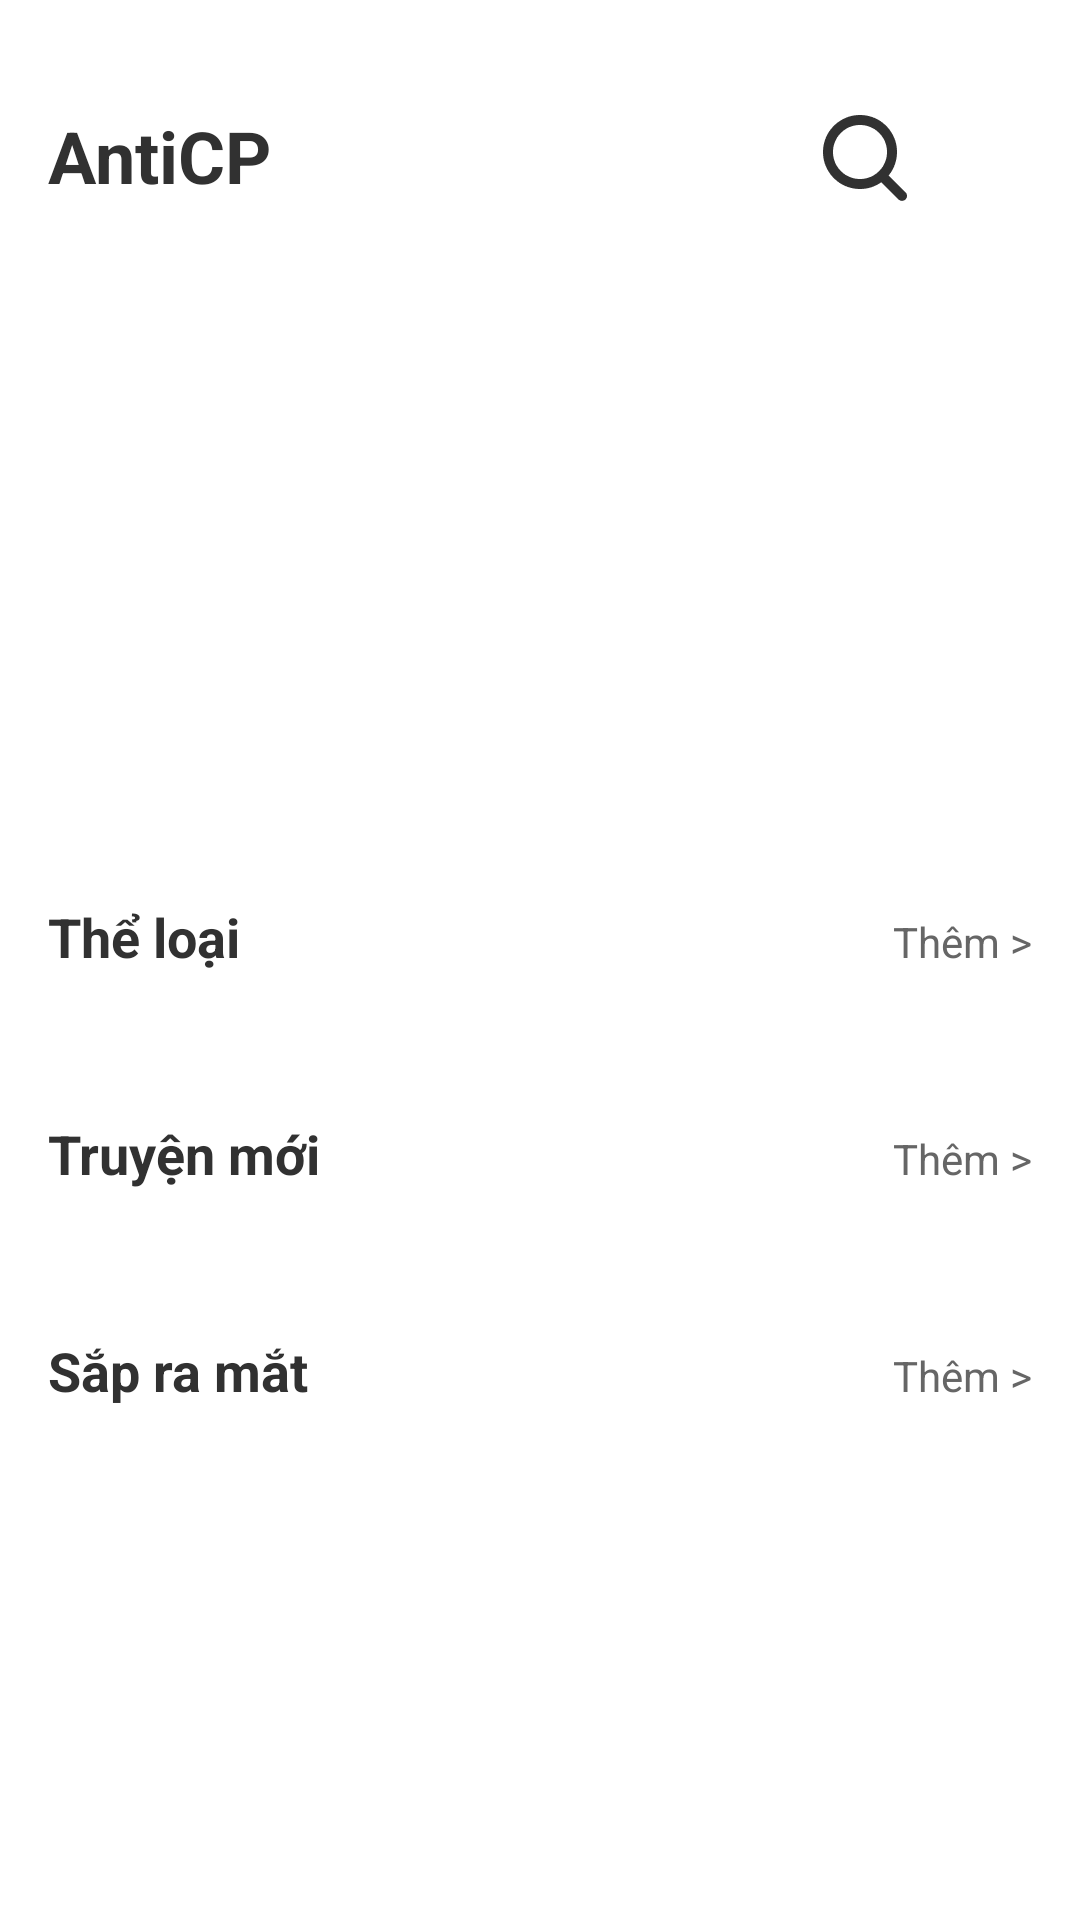

Icon click points for this 1080 × 1920 phone screenshot, format (x=x, y=y):
Tìm kiếm: (x=865, y=158)
